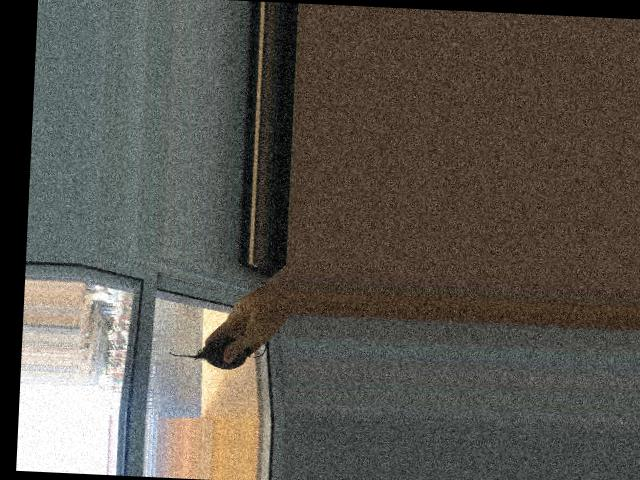beet: (167, 324, 266, 371)
